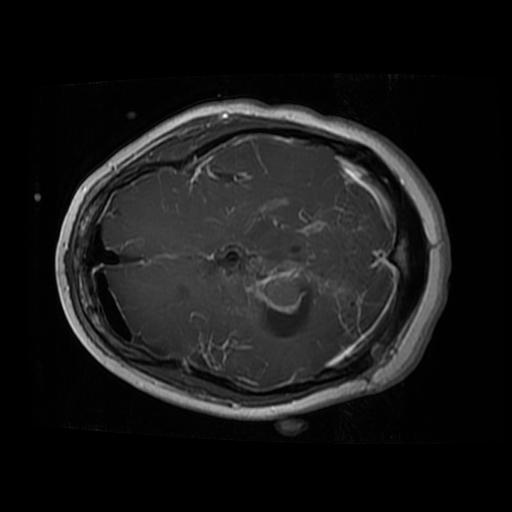glioma: (194, 237, 317, 343)
